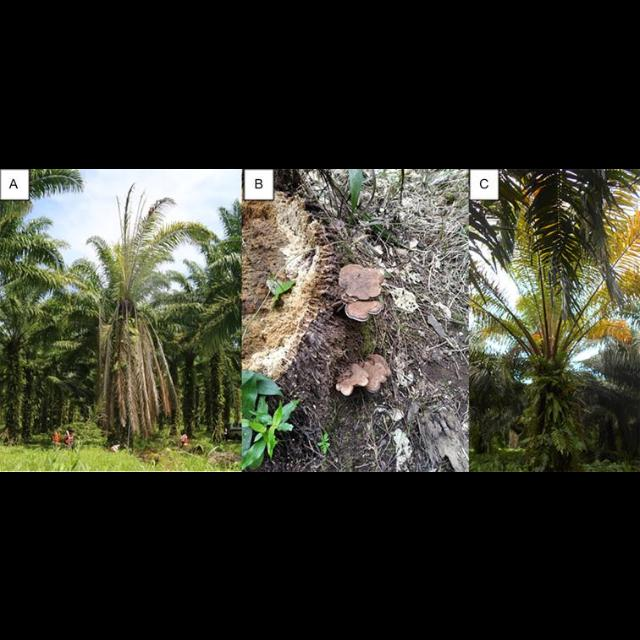ganoderma: (335, 351, 396, 399), (340, 264, 385, 304), (344, 300, 383, 321)
